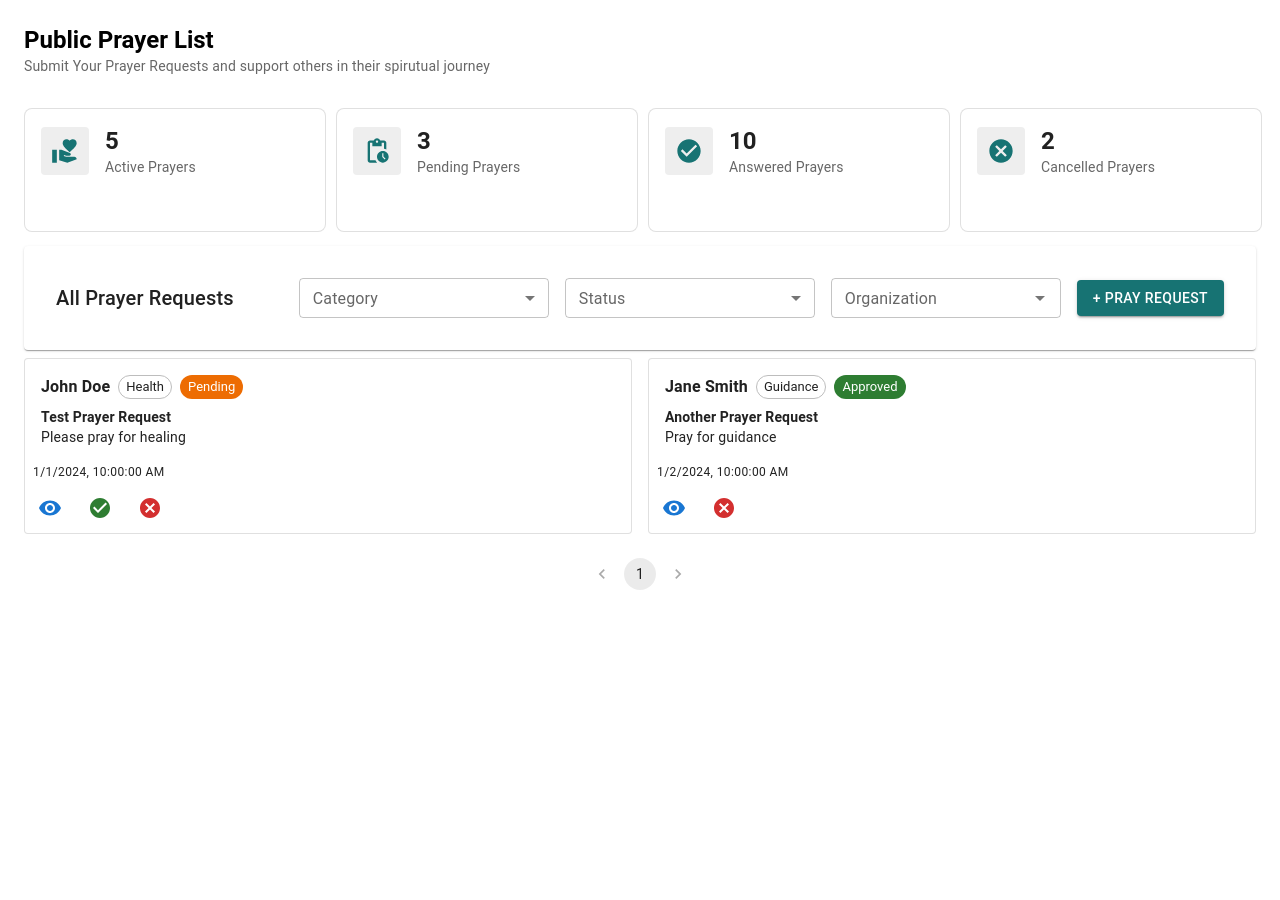
it: PrayerHub Component › opens and closes prayer request dialog
The width and height of the screenshot is (1280, 900).
Note: Click pray request button
Step 1. Click the button "+ PRAY REQUEST" → (1150, 298), box [1077,280,1224,316]
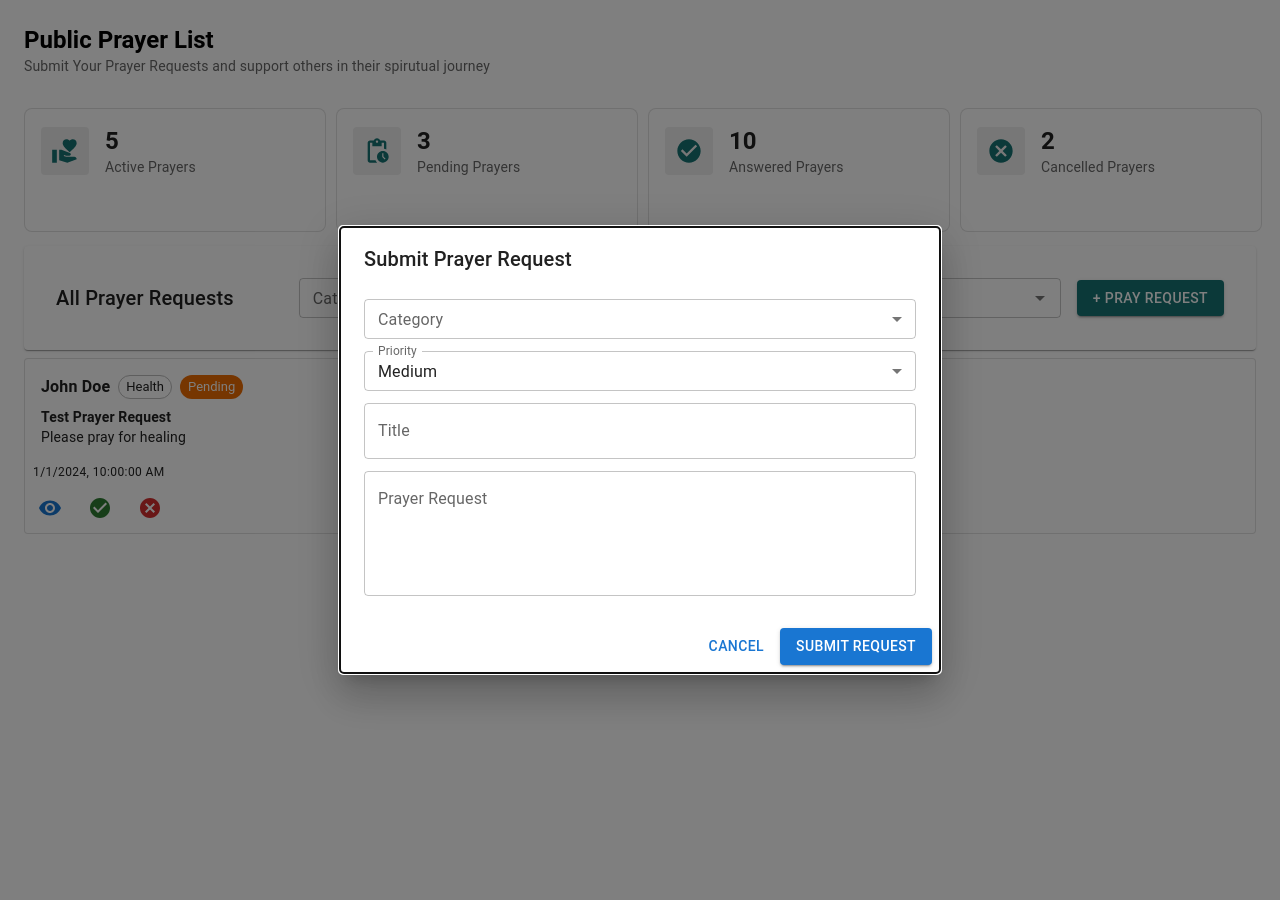
Result: the heading "Submit Prayer Request" is shown at [364,247,572,271]
Note: Click cancel button
Step 2. Click the button "Cancel" → (736, 647), box [701,628,772,665]
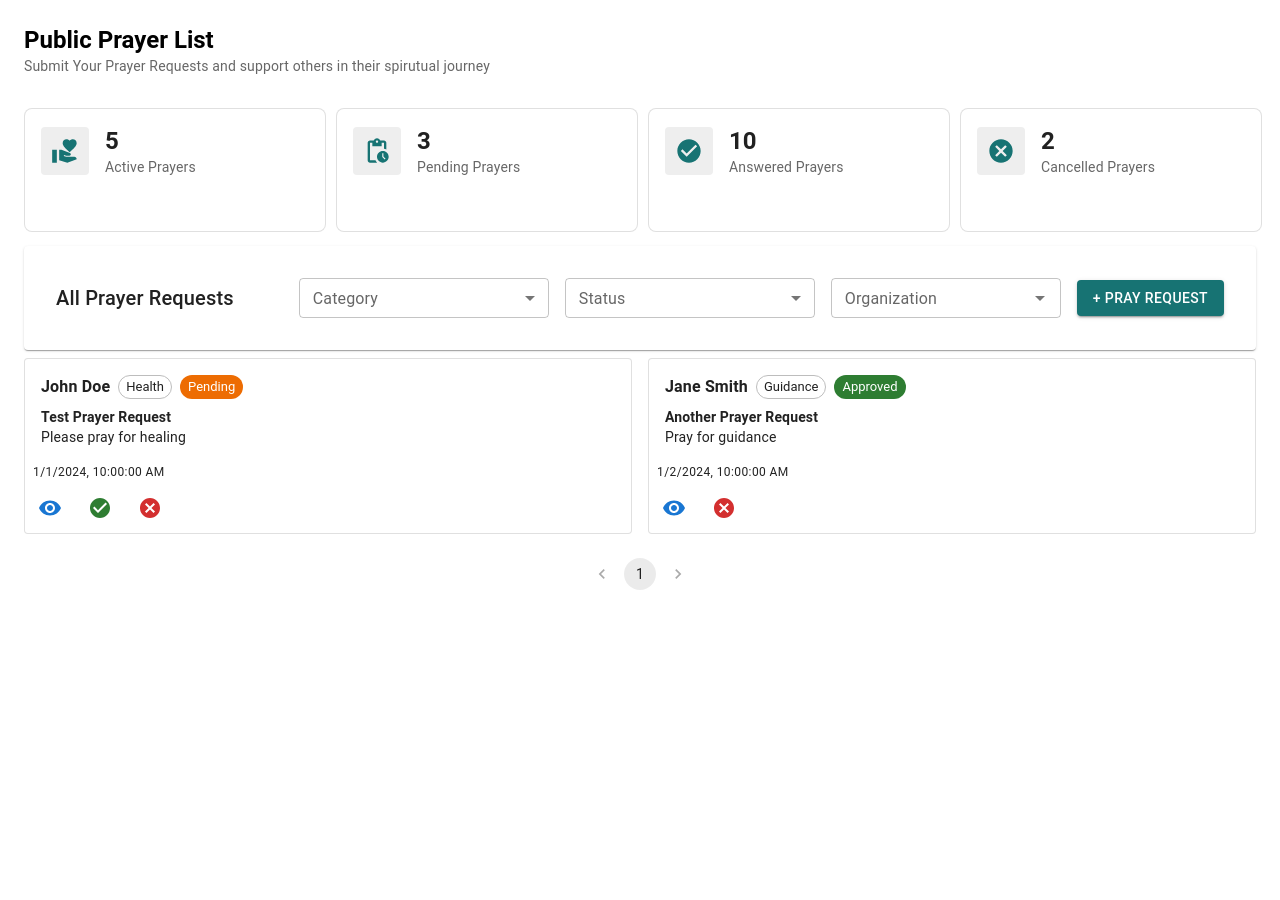
Result: the heading "Submit Prayer Request" is gone
